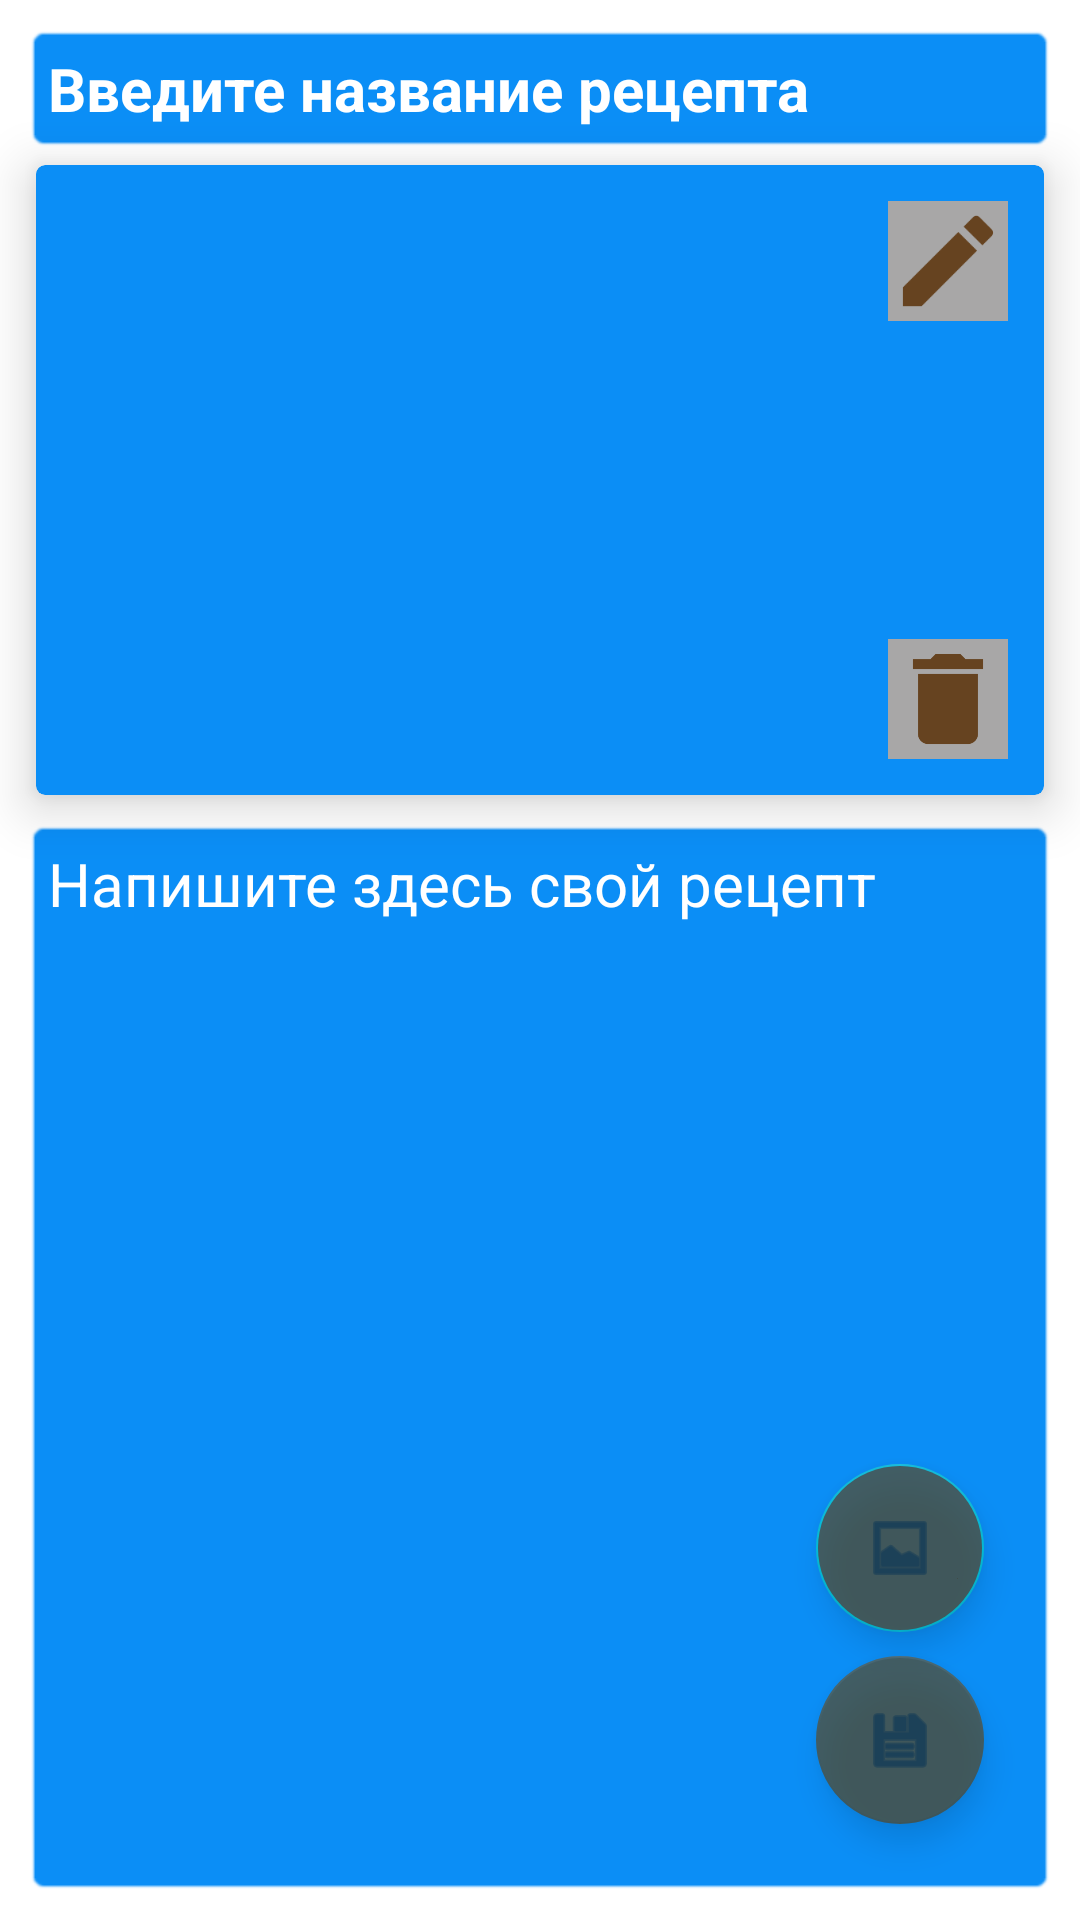

Point at icon controls on the screen. Image size 1080x1920, points as (x=x, y=y).
delete: (x=948, y=699)
edit: (x=948, y=261)
gallery: (x=900, y=1548)
save: (x=900, y=1740)
